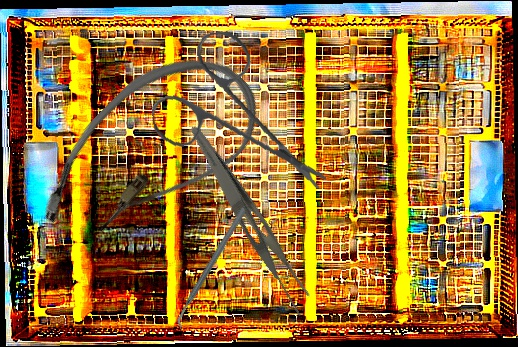Cannula: (19, 24, 279, 284)
Chopper: (142, 206, 281, 331)
Dressing Forceps: (168, 122, 327, 321)
Iris Scissors: (143, 21, 328, 209)
